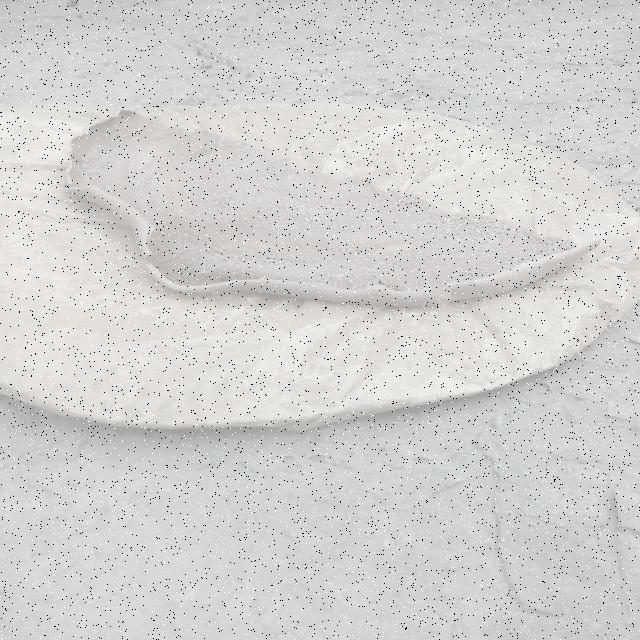injera_mold: (447, 234, 468, 244), (326, 270, 351, 278), (444, 215, 461, 226), (366, 270, 381, 278), (465, 268, 475, 280), (194, 269, 211, 276), (307, 216, 316, 224), (173, 244, 183, 250), (481, 266, 488, 274), (315, 269, 325, 274), (276, 231, 283, 238), (304, 226, 311, 231), (258, 264, 266, 268), (378, 261, 386, 265), (105, 185, 112, 189), (472, 218, 479, 222), (334, 264, 342, 267), (388, 262, 393, 266), (360, 256, 364, 258)
